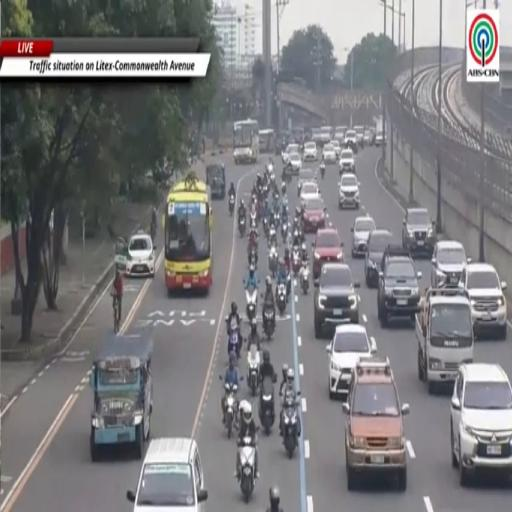bus: (164, 173, 212, 295), (233, 119, 259, 164), (259, 130, 275, 154)
car: (343, 357, 409, 491), (450, 363, 511, 486), (127, 438, 208, 511), (326, 325, 376, 399), (460, 263, 507, 340), (377, 246, 421, 328), (314, 263, 359, 338), (431, 240, 471, 287), (402, 208, 437, 257), (312, 228, 344, 280), (364, 230, 393, 287), (126, 231, 155, 277), (351, 216, 375, 258), (303, 198, 326, 233), (338, 173, 360, 209), (206, 164, 226, 199), (298, 169, 318, 196), (300, 182, 320, 203), (339, 149, 355, 174), (282, 143, 299, 165), (303, 141, 318, 162), (287, 153, 302, 173), (344, 130, 357, 152), (323, 143, 336, 164), (334, 125, 347, 143), (354, 126, 365, 147), (321, 126, 332, 145), (330, 139, 341, 158), (311, 128, 321, 145), (363, 130, 373, 146), (375, 131, 384, 147)
jeepney: (90, 335, 152, 461)
motorcycle: (238, 428, 258, 503), (282, 392, 300, 458), (259, 377, 276, 436), (224, 383, 238, 438), (248, 345, 260, 396), (262, 306, 275, 340), (228, 326, 239, 360), (246, 288, 257, 322), (276, 283, 287, 315), (300, 261, 309, 294), (269, 246, 278, 277), (292, 248, 300, 276), (248, 248, 257, 268), (238, 216, 246, 237), (268, 227, 276, 246), (282, 220, 288, 242), (229, 196, 235, 216), (262, 217, 268, 237), (250, 212, 257, 229), (320, 163, 326, 180), (274, 212, 279, 226)
truck: (416, 288, 473, 394), (374, 116, 384, 147)
